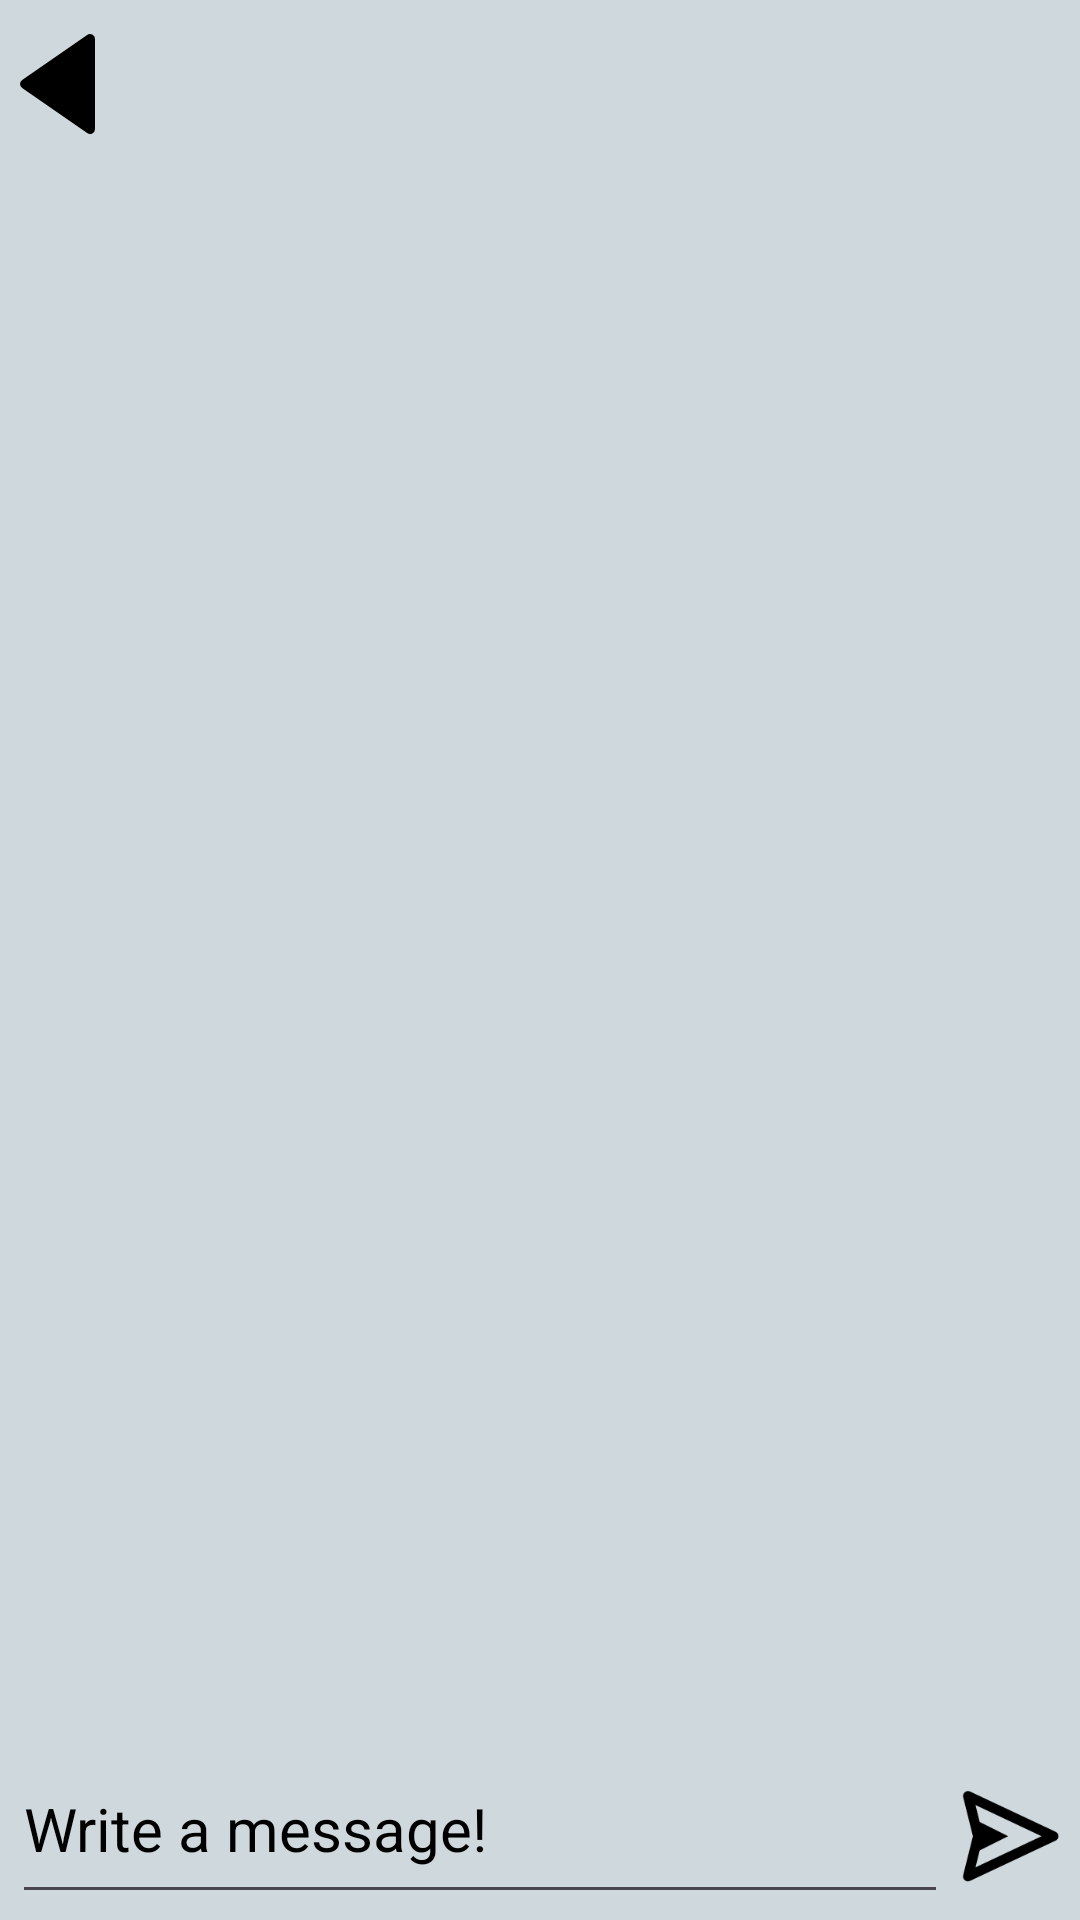

Screen size 1080×1920. Icon name, then its box in pixels as (x1, y1, x2, y2):
bxs left arrow: (20, 34, 95, 134)
sendmessage: (963, 1791, 1059, 1882)
